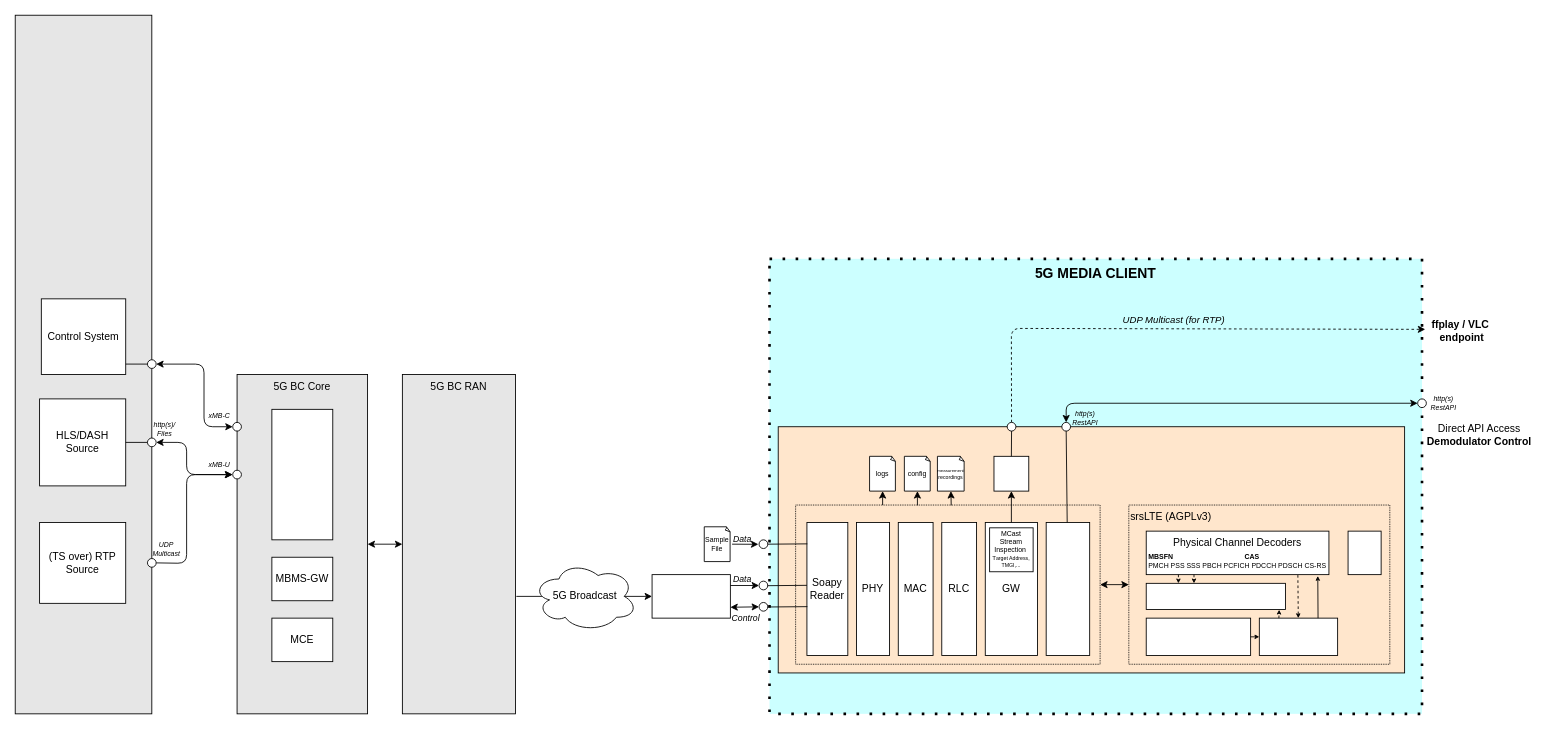
The diagram is 1552 pixels wide and 730 high, and some of its shapes have lost their labels. The shapes that lost their labels are listed below. From the top down, each one's box as (x1, y1, x2, y2) in pixels, then its label:
(14, 14, 152, 714): Content Provider
(271, 408, 333, 540): BMSC
(993, 455, 1029, 491): Network tun interface
(777, 426, 1405, 673): rt-mbms-modem Demodulator AGPLv3
(1347, 530, 1381, 575): RRC
(651, 574, 730, 618): SDR
(1045, 522, 1090, 656): RestAPI Server
(1145, 582, 1285, 609): Synchronisation
(1145, 617, 1251, 656): OFDM Demodulation
(1258, 617, 1338, 656): Channel Estimation
